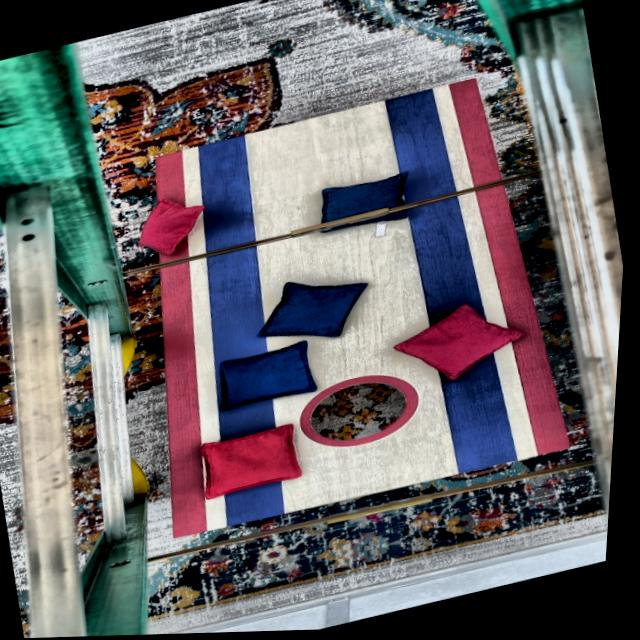blue-bean-bag: (250, 265, 379, 356), (217, 341, 323, 415), (314, 172, 416, 242)
board: (142, 82, 556, 533)
hole: (296, 366, 433, 461)
red-bean-bag: (388, 296, 535, 396), (198, 423, 312, 502), (125, 193, 216, 265)
